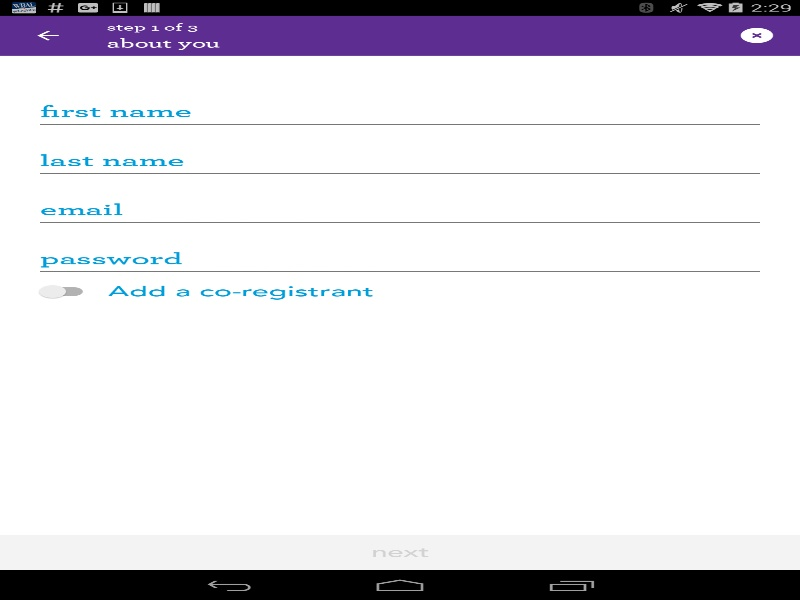Button: (0, 535, 800, 570), (10, 15, 85, 55)
Input: (34, 93, 765, 129), (34, 142, 765, 178), (34, 191, 765, 227), (34, 240, 765, 276)
